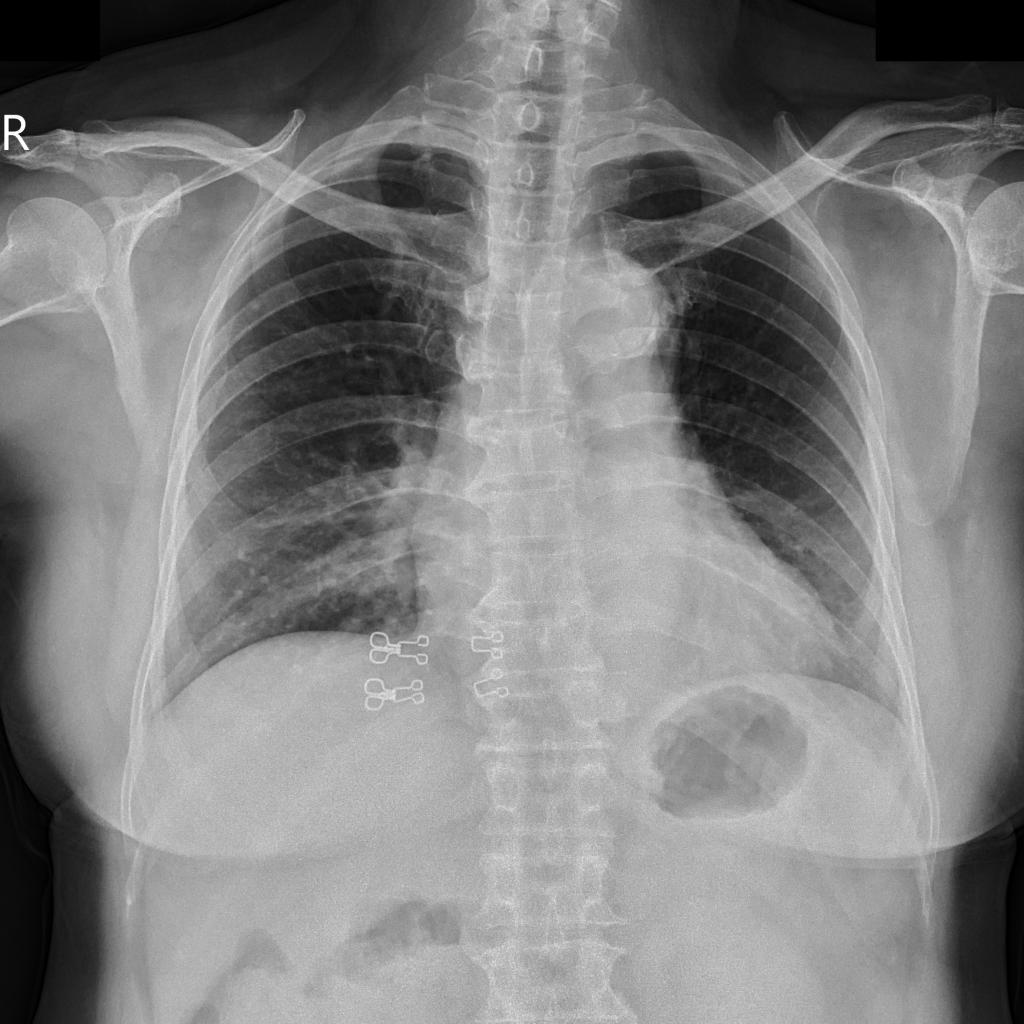Nodule: (249, 299, 264, 312)
